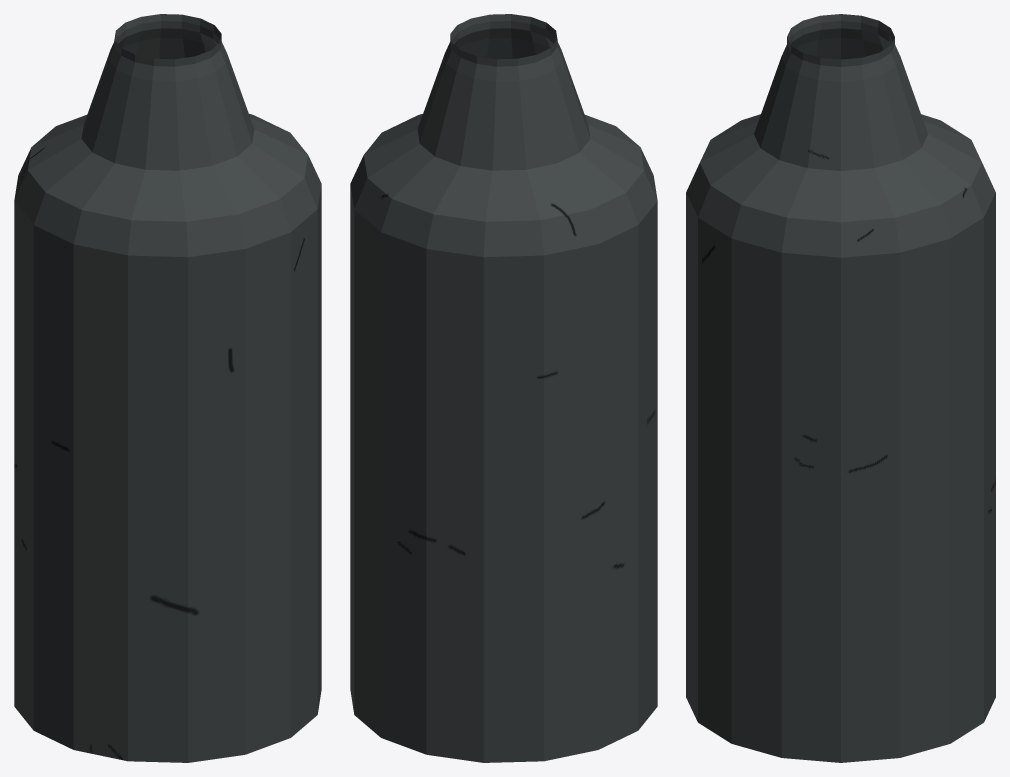
Rendered from rbsBottleFix.fbx.
The picture shows the model from 3 angles, left to right: view 1: azimuth 30°, elevation 25°; view 2: azimuth 150°, elevation 25°; view 3: azimuth 270°, elevation 25°; orthographic projection.
Parts seen in each view (by area): view 1: Cylinder; view 2: Cylinder; view 3: Cylinder.
Part boxes in pixels (x1,y1,x2,y2): Cylinder: (14, 14, 321, 762); Cylinder: (350, 14, 657, 762); Cylinder: (686, 14, 995, 762).
Size of the model in its own units: 10 by 23.54 by 10.
